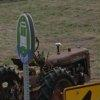Tractor: (2, 37, 100, 100)
